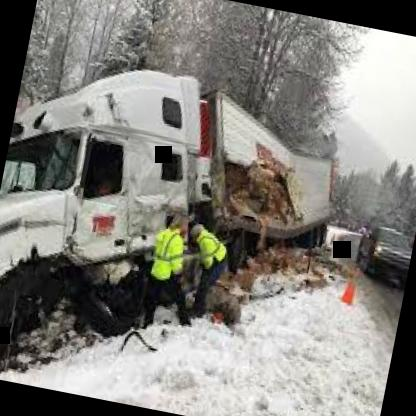accident: (0, 50, 353, 402)
